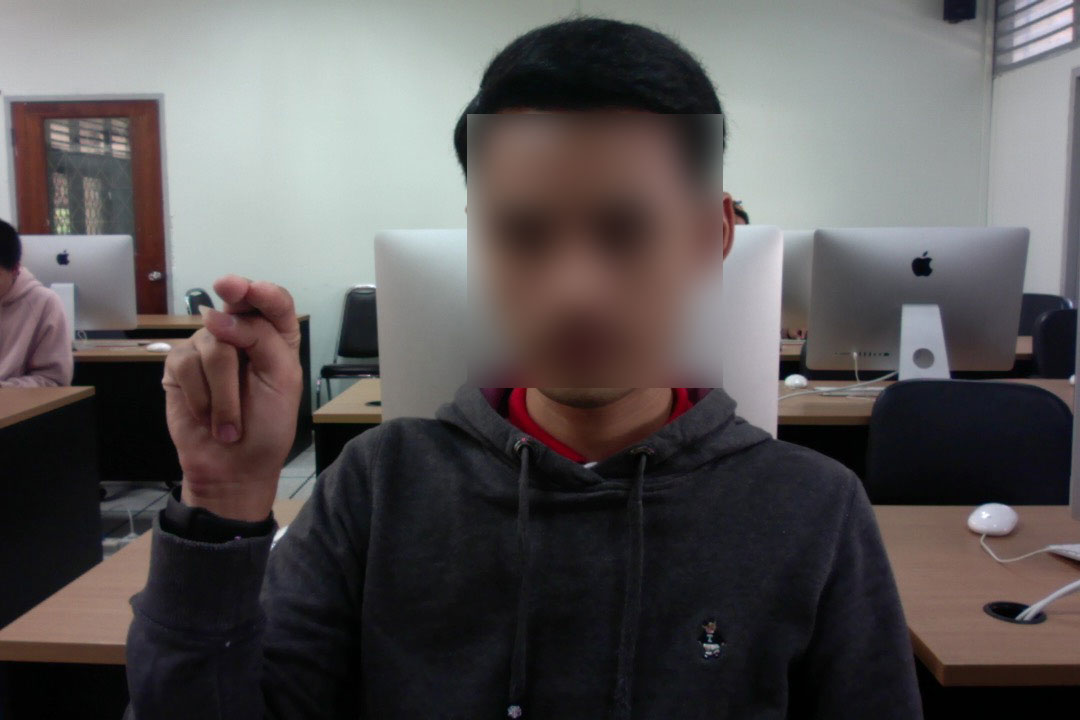nor: (153, 268, 305, 536)
